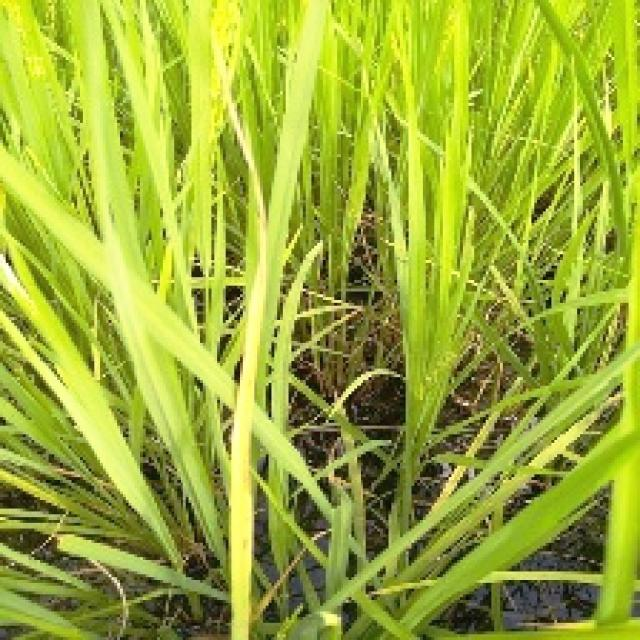unhealth: (214, 32, 269, 640)
